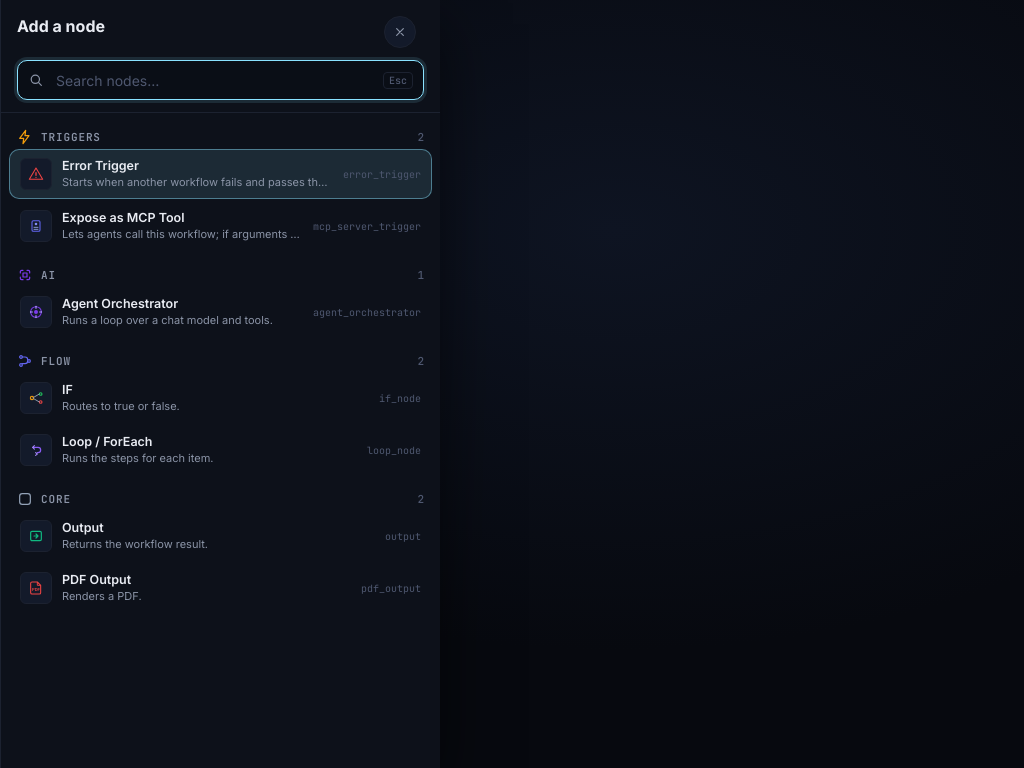
NodePalette search › marks the best match and lists its category first
This screenshot has width=1024, height=768.
Type "output" into the field named "Search nodes".
click(214, 80); type("output")  # box [54,70,375,90]
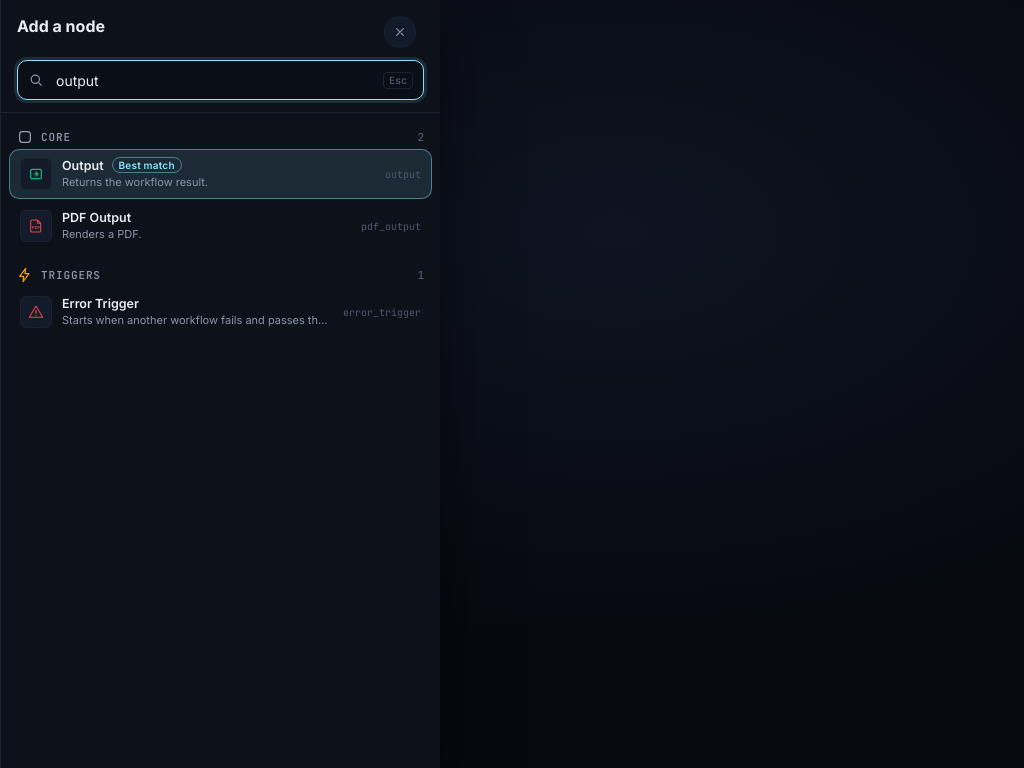
Expected: the option with aria-label "Returns the workflow result." shows "Output", [9,149,432,199]
Now the option with aria-label "Returns the workflow result." shows "Best match", box [9,149,432,199]
Now the text "Best match" is shown once, box [112,157,182,173]
